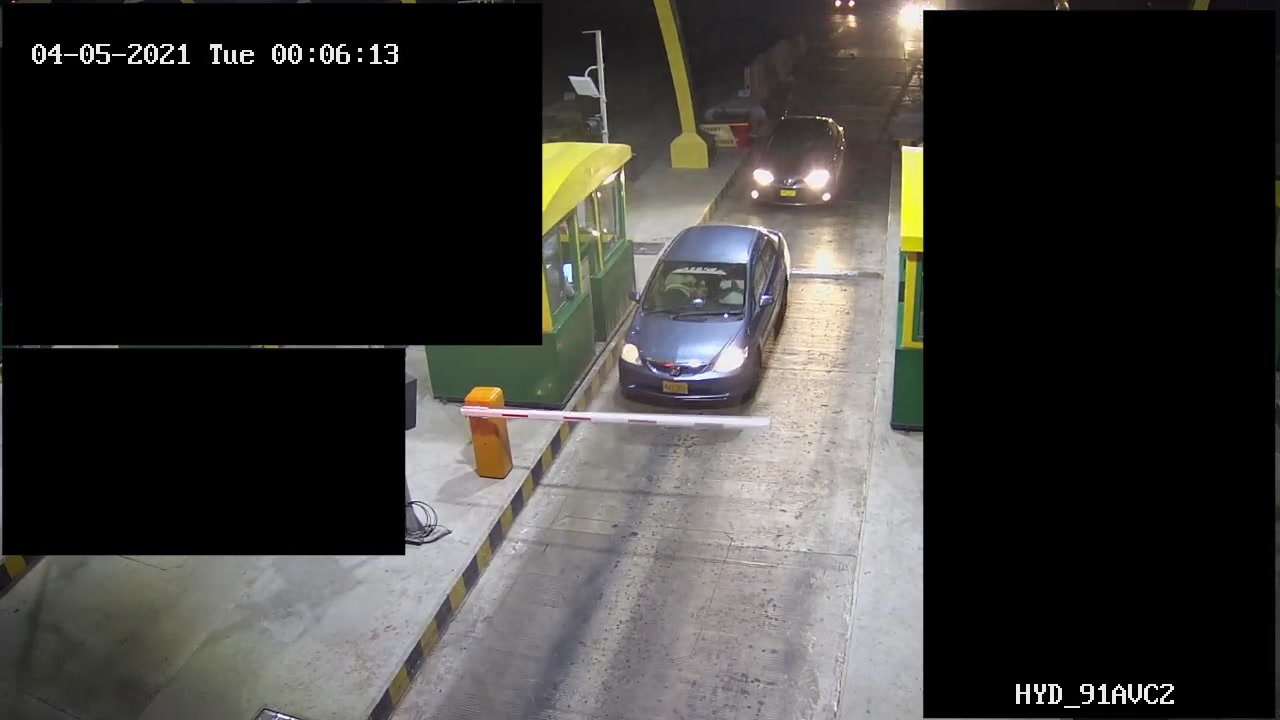F1: (608, 223, 820, 407), (745, 114, 853, 207)
